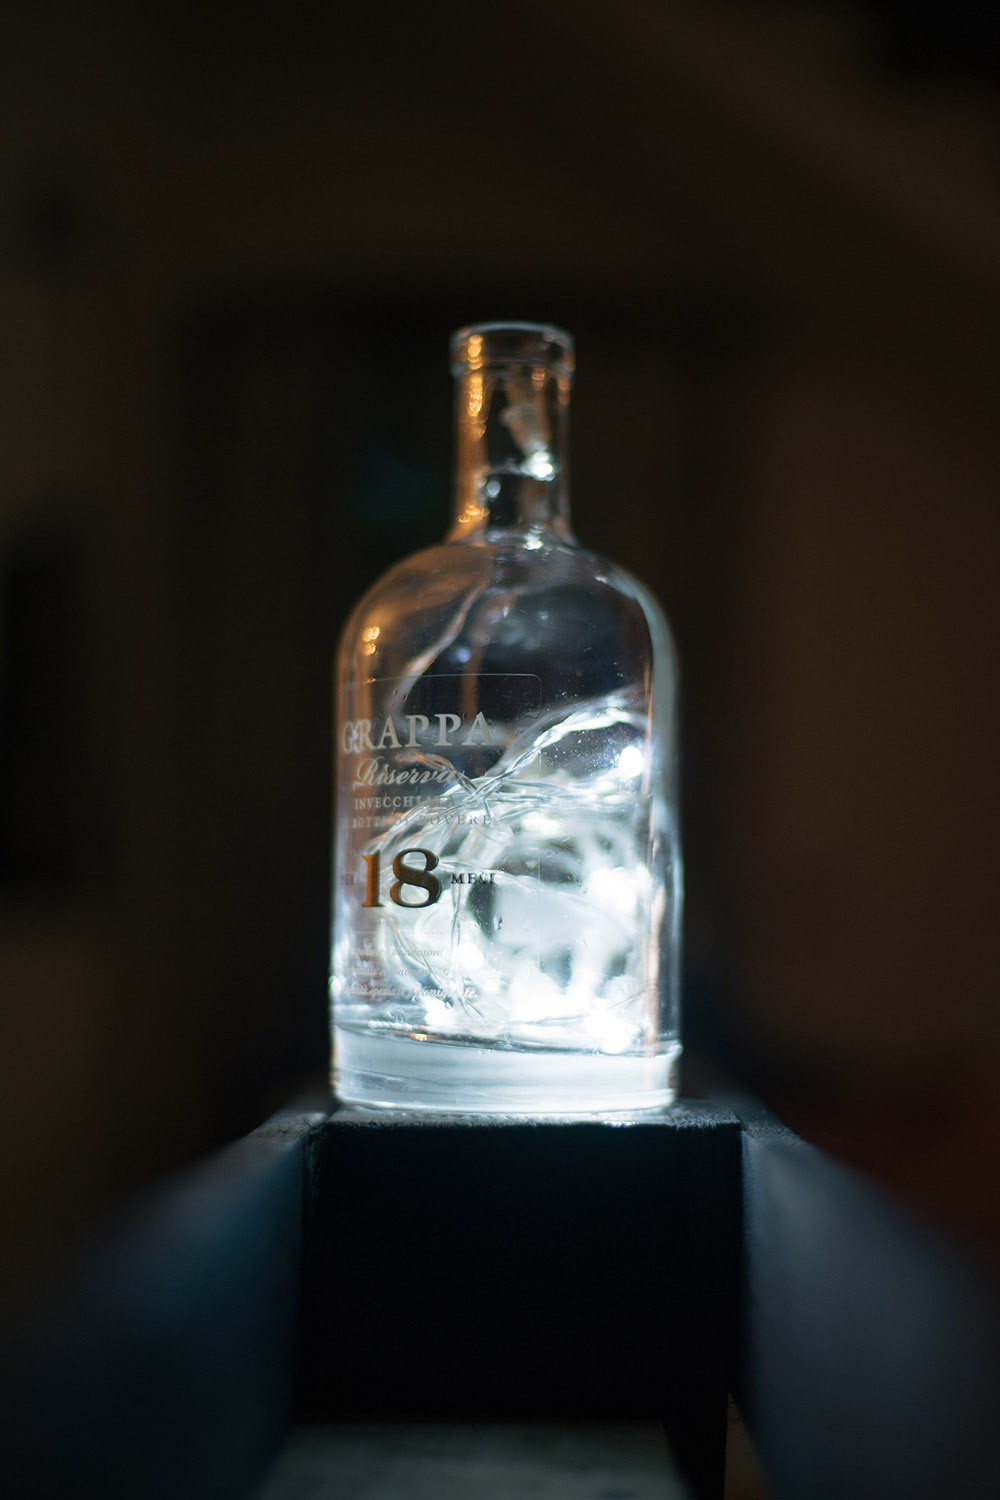emptybottle: (323, 326, 686, 1117)
